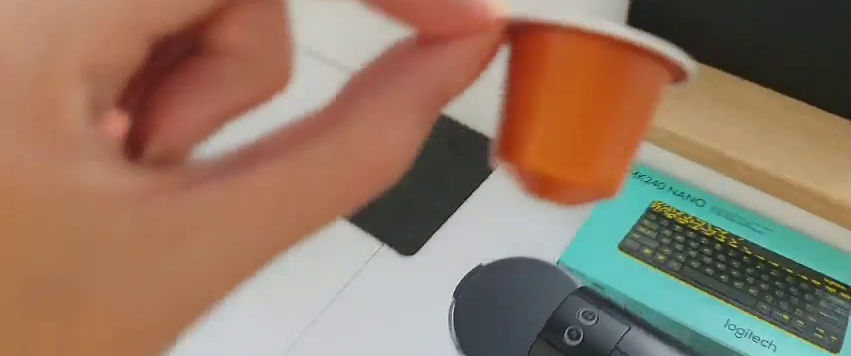capsule_5: (485, 7, 692, 206)
